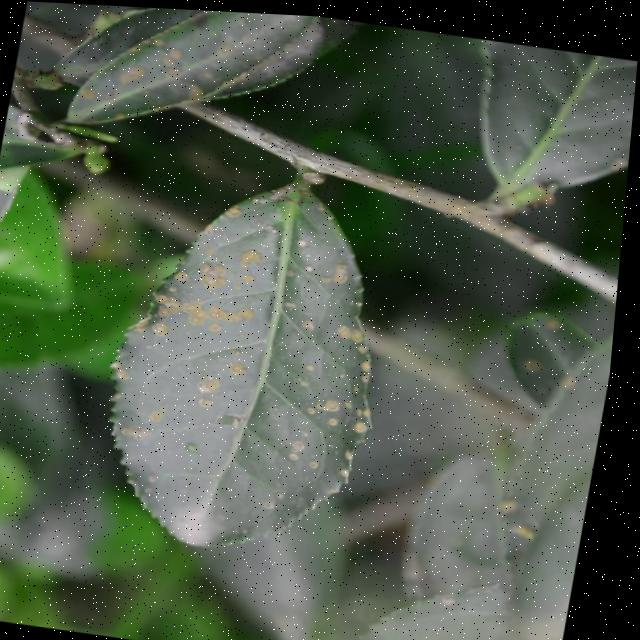Tea algae leaf spot: (96, 165, 413, 548)
